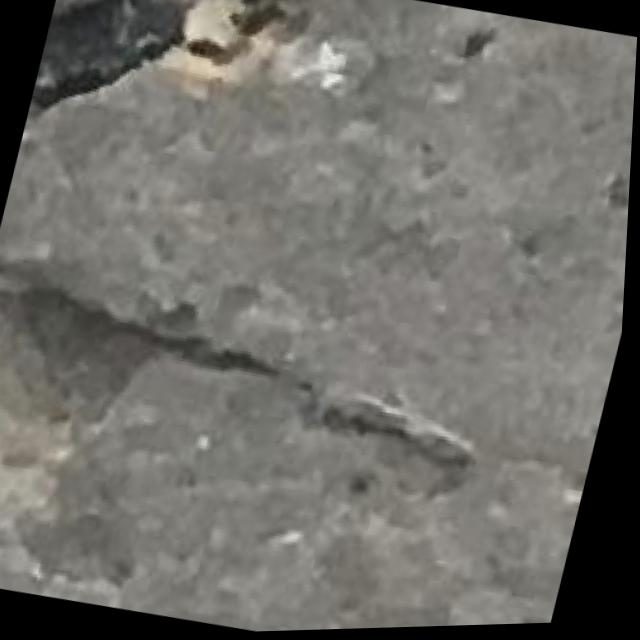Crack: (0, 244, 530, 535), (23, 0, 305, 180)
